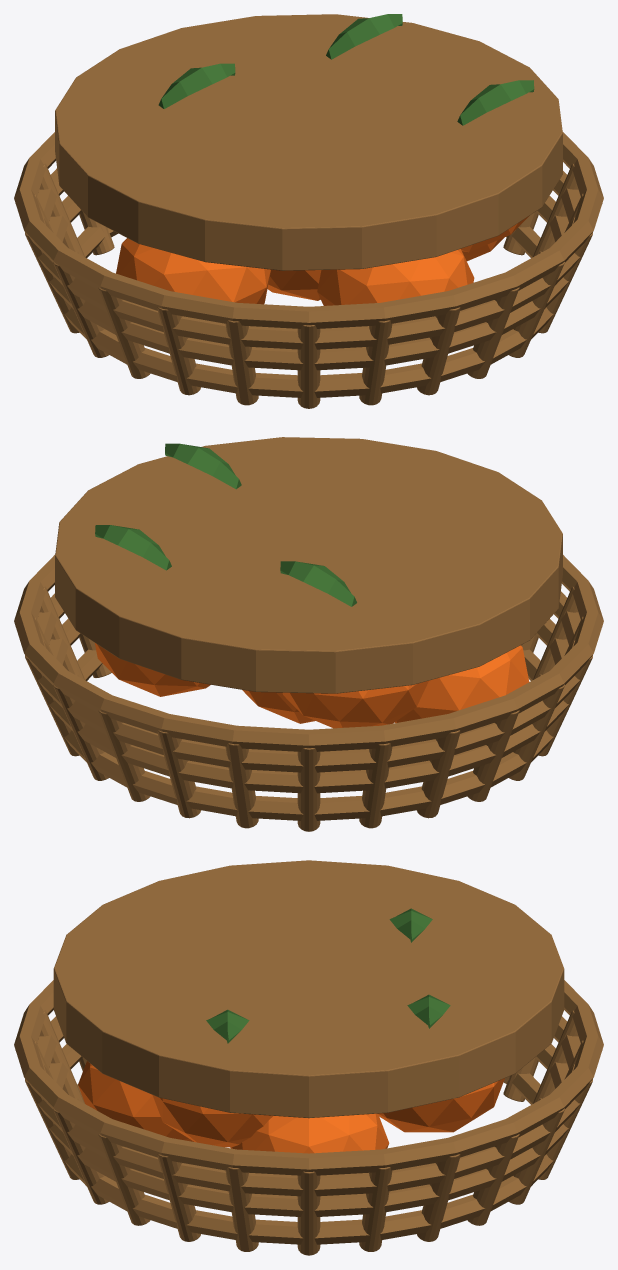
File: source-edit.glb
3 renders of one model, top to bottom at view 1: azimuth 30°, elevation 25°; view 2: azimuth 150°, elevation 25°; view 3: azimuth 270°, elevation 25°, orthographic.
Visible parts, largest first — view 1: BASKET_Base, BASKET_Weave, BASKET_Weave.003, BASKET_Weave.001, BASKET_Weave.002, MANDARIN_4, MANDARIN_2, BASKET_Upright.017, BASKET_Upright.016, BASKET_Upright.018, MANDARIN_Leaf.002, MANDARIN_Leaf.006 (+12 smaller); view 2: BASKET_Base, BASKET_Weave, BASKET_Weave.003, BASKET_Weave.002, BASKET_Weave.001, MANDARIN_4, MANDARIN_1, MANDARIN_3, BASKET_Upright.009, BASKET_Upright.008, BASKET_Upright.010, MANDARIN_Leaf.002 (+13 smaller); view 3: BASKET_Base, BASKET_Weave, BASKET_Weave.003, BASKET_Weave.002, BASKET_Weave.001, MANDARIN_0, MANDARIN_2, MANDARIN_5, MANDARIN_3, BASKET_Upright.001, BASKET_Upright.002, BASKET_Upright (+13 smaller).
Boxes of the visible parts, x1=… form: BASKET_Base: x1=55, y1=14, x2=562, y2=270; BASKET_Weave: x1=14, y1=132, x2=603, y2=328; BASKET_Weave.003: x1=37, y1=168, x2=580, y2=349; BASKET_Weave.001: x1=64, y1=226, x2=553, y2=397; BASKET_Weave.002: x1=49, y1=195, x2=568, y2=370; MANDARIN_4: x1=116, y1=238, x2=270, y2=304; MANDARIN_2: x1=317, y1=249, x2=474, y2=305; BASKET_Upright.017: x1=297, y1=325, x2=320, y2=408; BASKET_Upright.016: x1=225, y1=320, x2=258, y2=405; BASKET_Upright.018: x1=359, y1=320, x2=392, y2=405; MANDARIN_Leaf.002: x1=158, y1=63, x2=235, y2=108; MANDARIN_Leaf.006: x1=457, y1=80, x2=534, y2=125; BASKET_Base: x1=55, y1=437, x2=562, y2=693; BASKET_Weave: x1=14, y1=554, x2=603, y2=751; BASKET_Weave.003: x1=37, y1=591, x2=580, y2=772; BASKET_Weave.002: x1=49, y1=618, x2=568, y2=793; BASKET_Weave.001: x1=64, y1=649, x2=553, y2=820; MANDARIN_4: x1=395, y1=645, x2=529, y2=722; MANDARIN_1: x1=282, y1=680, x2=428, y2=728; MANDARIN_3: x1=95, y1=643, x2=210, y2=696; BASKET_Upright.009: x1=297, y1=748, x2=320, y2=831; BASKET_Upright.008: x1=225, y1=743, x2=258, y2=828; BASKET_Upright.010: x1=359, y1=743, x2=392, y2=828; MANDARIN_Leaf.002: x1=280, y1=561, x2=356, y2=606; BASKET_Base: x1=53, y1=860, x2=564, y2=1118; BASKET_Weave: x1=14, y1=980, x2=603, y2=1175; BASKET_Weave.003: x1=37, y1=1016, x2=580, y2=1196; BASKET_Weave.002: x1=49, y1=1044, x2=568, y2=1216; BASKET_Weave.001: x1=64, y1=1073, x2=553, y2=1244; MANDARIN_0: x1=230, y1=1113, x2=389, y2=1153; MANDARIN_2: x1=78, y1=1061, x2=193, y2=1141; MANDARIN_5: x1=152, y1=1095, x2=273, y2=1147; MANDARIN_3: x1=378, y1=1078, x2=504, y2=1132; BASKET_Upright.001: x1=297, y1=1171, x2=320, y2=1255; BASKET_Upright.002: x1=359, y1=1167, x2=392, y2=1251; BASKET_Upright: x1=225, y1=1167, x2=258, y2=1251.
Bounding box in the file's own units: 0.624 × 0.2489 × 0.624.
